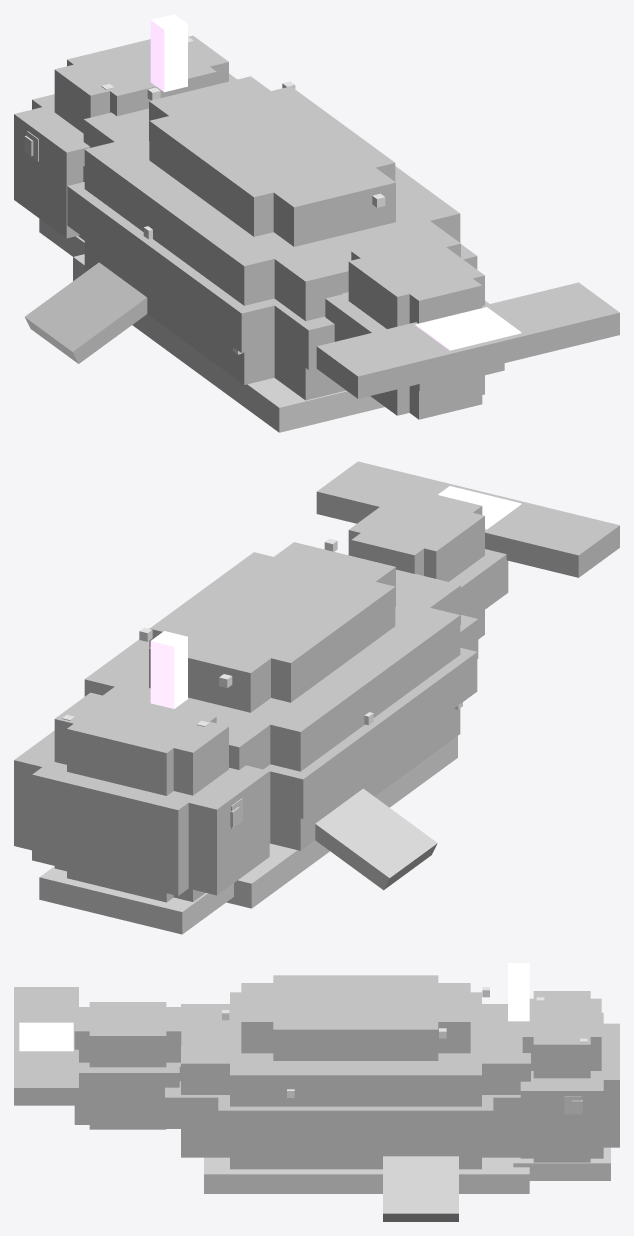
The model's file is GalaxyWhale.fbx.
3 renders of one model, top to bottom at view 1: azimuth 30°, elevation 25°; view 2: azimuth 150°, elevation 25°; view 3: azimuth 270°, elevation 25°, orthographic. The views are drawn at different scales.
Visible parts, largest first — view 1: Galaxy Whale_body_8, Galaxy Whale_body_6, Galaxy Whale_tail_34, Galaxy Whale_body_9, Galaxy Whale_body_4, Galaxy Whale_body_7, Galaxy Whale_wingL_37, Galaxy Whale_body_18, Galaxy Whale_tail_33, Galaxy Whale_head_16, Galaxy Whale_body_2, Galaxy Whale_tail_32 (+12 smaller); view 2: Galaxy Whale_body_9, Galaxy Whale_body_6, Galaxy Whale_body_8, Galaxy Whale_tail_34, Galaxy Whale_body_4, Galaxy Whale_head_15, Galaxy Whale_head_16, Galaxy Whale_head_17, Galaxy Whale_body_7, Galaxy Whale_head_14, Galaxy Whale_wingL_37, Galaxy Whale_head_13 (+11 smaller); view 3: Galaxy Whale_body_8, Galaxy Whale_body_6, Galaxy Whale_body_4, Galaxy Whale_body_7, Galaxy Whale_body_9, Galaxy Whale_body_18, Galaxy Whale_body_2, Galaxy Whale_tail_34, Galaxy Whale_tail_32, Galaxy Whale_wingR_36, Galaxy Whale_head_16, Galaxy Whale_head_14 (+12 smaller).
Boxes of the visible parts, x1,y1,x2,y2 form: Galaxy Whale_body_8: [149, 86, 395, 236]; Galaxy Whale_body_6: [84, 134, 460, 305]; Galaxy Whale_tail_34: [316, 282, 619, 398]; Galaxy Whale_body_9: [149, 76, 395, 246]; Galaxy Whale_body_4: [67, 182, 477, 352]; Galaxy Whale_body_7: [83, 108, 460, 321]; Galaxy Whale_wingL_37: [25, 262, 147, 363]; Galaxy Whale_body_18: [73, 254, 384, 432]; Galaxy Whale_tail_33: [351, 236, 482, 323]; Galaxy Whale_head_16: [54, 35, 228, 133]; Galaxy Whale_body_2: [84, 238, 274, 384]; Galaxy Whale_tail_32: [348, 240, 484, 328]; Galaxy Whale_body_9: [149, 542, 395, 712]; Galaxy Whale_body_6: [84, 599, 460, 771]; Galaxy Whale_body_8: [149, 552, 395, 702]; Galaxy Whale_tail_34: [316, 461, 619, 577]; Galaxy Whale_body_4: [263, 647, 477, 818]; Galaxy Whale_head_15: [32, 767, 233, 852]; Galaxy Whale_head_16: [54, 692, 228, 795]; Galaxy Whale_head_17: [67, 692, 216, 795]; Galaxy Whale_body_7: [103, 569, 460, 769]; Galaxy Whale_head_14: [14, 730, 269, 852]; Galaxy Whale_wingL_37: [315, 788, 437, 890]; Galaxy Whale_head_13: [32, 817, 188, 895]; Galaxy Whale_body_8: [273, 975, 438, 1060]; Galaxy Whale_body_6: [230, 992, 481, 1106]; Galaxy Whale_body_4: [218, 1095, 493, 1141]; Galaxy Whale_body_7: [181, 1004, 530, 1094]; Galaxy Whale_body_9: [241, 983, 470, 1053]; Galaxy Whale_body_18: [204, 1157, 529, 1193]; Galaxy Whale_body_2: [230, 1141, 481, 1169]; Galaxy Whale_tail_34: [14, 987, 78, 1105]; Galaxy Whale_tail_32: [89, 1002, 166, 1067]; Galaxy Whale_wingR_36: [383, 1156, 458, 1221]; Galaxy Whale_head_16: [533, 991, 590, 1078]; Galaxy Whale_head_14: [520, 1012, 603, 1124].
Size of the model in its own units: 307 by 197 by 558.
